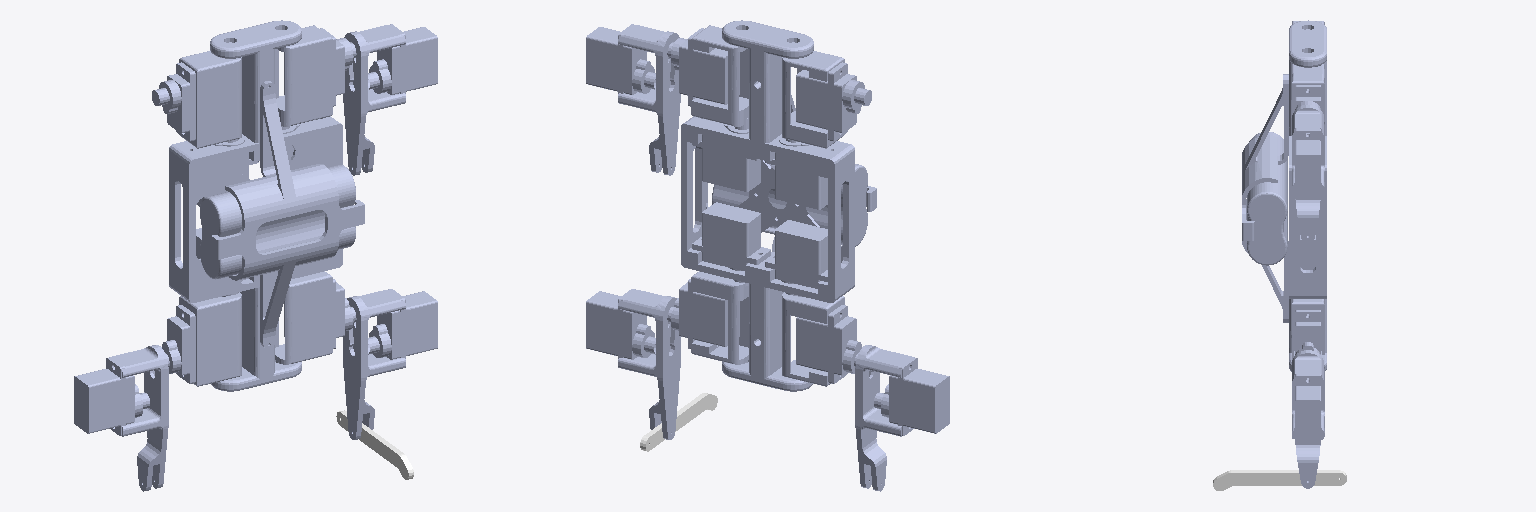
robot.urdf — MQ_SIM_ASEM:
<?xml version="1.0"?>
<robot
  name="MQ_SIM_ASEM">
  <link
    name="Chassis">
    <inertial>
      <origin
        xyz="-2.2751E-16 -0.0045599 -0.0045435"
        rpy="0 0 0" />
      <mass
        value="0.21254" />
      <inertia
        ixx="0.00050987"
        ixy="-1.19E-11"
        ixz="-1.8228E-18"
        iyy="0.00078799"
        iyz="1.2389E-06"
        izz="0.00031486" />
    </inertial>
    <visual>
      <origin
        xyz="0 0 0"
        rpy="0 0 0" />
      <geometry>
        <mesh
          filename="package://MQ_SIM_ASEM/meshes/Chassis.STL" />
      </geometry>
      <material
        name="">
        <color
          rgba="0.79216 0.81961 0.93333 1" />
      </material>
    </visual>
    <collision>
      <origin
        xyz="0 0 0"
        rpy="0 0 0" />
      <geometry>
        <mesh
          filename="package://MQ_SIM_ASEM/meshes/Chassis.STL" />
      </geometry>
    </collision>
  </link>
  <link
    name="FL_S">
    <inertial>
      <origin
        xyz="-0.012475 -0.0045599 -0.059993"
        rpy="0 0 0" />
      <mass
        value="0.21254" />
      <inertia
        ixx="0.00050987"
        ixy="-1.19E-11"
        ixz="-1.8228E-18"
        iyy="0.00078799"
        iyz="1.2389E-06"
        izz="0.00031486" />
    </inertial>
    <visual>
      <origin
        xyz="0 0 0"
        rpy="0 0 0" />
      <geometry>
        <mesh
          filename="package://MQ_SIM_ASEM/meshes/FL_S.STL" />
      </geometry>
      <material
        name="">
        <color
          rgba="0.79216 0.81961 0.93333 1" />
      </material>
    </visual>
    <collision>
      <origin
        xyz="0 0 0"
        rpy="0 0 0" />
      <geometry>
        <mesh
          filename="package://MQ_SIM_ASEM/meshes/FL_S.STL" />
      </geometry>
    </collision>
  </link>
  <joint
    name="FL_S"
    type="revolute">
    <origin
      xyz="0.012475 0 0.05545"
      rpy="0 0 0" />
    <parent
      link="Chassis" />
    <child
      link="FL_S" />
    <axis
      xyz="0 0 1" />
    <limit
      effort="10"
      velocity="5" />
    <dynamics
      damping="0"
      friction="0" />
  </joint>
  <link
    name="FL_U">
    <inertial>
      <origin
        xyz="-0.048925 -0.00455991469585068 -0.0661434522412885"
        rpy="0 0 0" />
      <mass
        value="0.212537478238056" />
      <inertia
        ixx="0.000509871545281873"
        ixy="-1.18995042286199E-11"
        ixz="-1.82281490249125E-18"
        iyy="0.00078798977975645"
        iyz="1.23887315159603E-06"
        izz="0.000314862007654797" />
    </inertial>
    <visual>
      <origin
        xyz="0 0 0"
        rpy="0 0 0" />
      <geometry>
        <mesh
          filename="package://MQ_SIM_ASEM/meshes/FL_U.STL" />
      </geometry>
      <material
        name="">
        <color
          rgba="0.792156862745098 0.819607843137255 0.933333333333333 1" />
      </material>
    </visual>
    <collision>
      <origin
        xyz="0 0 0"
        rpy="0 0 0" />
      <geometry>
        <mesh
          filename="package://MQ_SIM_ASEM/meshes/FL_U.STL" />
      </geometry>
    </collision>
  </link>
  <joint
    name="FL_U"
    type="revolute">
    <origin
      xyz="0.03645 0 0.00615"
      rpy="0 0 0" />
    <parent
      link="FL_S" />
    <child
      link="FL_U" />
    <axis
      xyz="1 0 0" />
    <limit
      effort="10"
      velocity="5" />
    <dynamics
      damping="0"
      friction="0" />
  </joint>
  <link
    name="FL_L">
    <inertial>
      <origin
        xyz="0 -0.0132084566072264 -0.000261600947614194"
        rpy="0 0 0" />
      <mass
        value="0.10736396629226" />
      <inertia
        ixx="0.01"
        ixy="0"
        ixz="0"
        iyy="0.01"
        iyz="0"
        izz="0.01" />
    </inertial>
    <visual>
      <origin
        xyz="0 0 0"
        rpy="0 0 0" />
      <geometry>
        <mesh
          filename="package://MQ_SIM_ASEM/meshes/FL_L.STL" />
      </geometry>
      <material
        name="">
        <color
          rgba="1 1 1 1" />
      </material>
    </visual>
    <collision>
      <origin
        xyz="0 0 0"
        rpy="0 0 0" />
      <geometry>
        <mesh
          filename="package://MQ_SIM_ASEM/meshes/FL_L.STL" />
      </geometry>
    </collision>
  </link>
  <joint
    name="FL_L"
    type="revolute">
    <origin
      xyz="0.00185 0 -0.055"
      rpy="0 0 0" />
    <parent
      link="FL_U" />
    <child
      link="FL_L" />
    <axis
      xyz="1 0 0" />
    <limit
      effort="1000"
      velocity="5" />
    <dynamics
      damping="0"
      friction="0" />
  </joint>
  <link
    name="FR_S">
    <inertial>
      <origin
        xyz="0.0124749999999998 -0.00455991469584891 -0.0599934522412885"
        rpy="0 0 0" />
      <mass
        value="0.212537478238056" />
      <inertia
        ixx="0.000509871545281873"
        ixy="-1.18995042286199E-11"
        ixz="-1.83636742964732E-18"
        iyy="0.00078798977975645"
        iyz="1.23887315159603E-06"
        izz="0.000314862007654797" />
    </inertial>
    <visual>
      <origin
        xyz="0 0 0"
        rpy="0 0 0" />
      <geometry>
        <mesh
          filename="package://MQ_SIM_ASEM/meshes/FR_S.STL" />
      </geometry>
      <material
        name="">
        <color
          rgba="0.792156862745098 0.819607843137255 0.933333333333333 1" />
      </material>
    </visual>
    <collision>
      <origin
        xyz="0 0 0"
        rpy="0 0 0" />
      <geometry>
        <mesh
          filename="package://MQ_SIM_ASEM/meshes/FR_S.STL" />
      </geometry>
    </collision>
  </link>
  <joint
    name="FR_S"
    type="revolute">
    <origin
      xyz="-0.012475 0 0.05545"
      rpy="0 0 0" />
    <parent
      link="Chassis" />
    <child
      link="FR_S" />
    <axis
      xyz="0 0 1" />
    <limit
      effort="10"
      velocity="5" />
    <dynamics
      damping="0"
      friction="0" />
  </joint>
  <link
    name="FR_U">
    <inertial>
      <origin
        xyz="0.0489249999999996 -0.00455991469584817 -0.0661434522412884"
        rpy="0 0 0" />
      <mass
        value="0.212537478238056" />
      <inertia
        ixx="0.000509871545281873"
        ixy="-1.18995042286199E-11"
        ixz="-1.82281490249125E-18"
        iyy="0.00078798977975645"
        iyz="1.23887315159603E-06"
        izz="0.000314862007654797" />
    </inertial>
    <visual>
      <origin
        xyz="0 0 0"
        rpy="0 0 0" />
      <geometry>
        <mesh
          filename="package://MQ_SIM_ASEM/meshes/FR_U.STL" />
      </geometry>
      <material
        name="">
        <color
          rgba="0.792156862745098 0.819607843137255 0.933333333333333 1" />
      </material>
    </visual>
    <collision>
      <origin
        xyz="0 0 0"
        rpy="0 0 0" />
      <geometry>
        <mesh
          filename="package://MQ_SIM_ASEM/meshes/FR_U.STL" />
      </geometry>
    </collision>
  </link>
  <joint
    name="FR_U"
    type="revolute">
    <origin
      xyz="-0.03645 0 0.00615"
      rpy="0 0 0" />
    <parent
      link="FR_S" />
    <child
      link="FR_U" />
    <axis
      xyz="1 0 0" />
    <limit
      effort="10"
      velocity="5" />
    <dynamics
      damping="0"
      friction="0" />
  </joint>
  <link
    name="FR_L">
    <inertial>
      <origin
        xyz="0 -0.0132084566072264 -0.000261600947614193"
        rpy="0 0 0" />
      <mass
        value="0.10736396629226" />
      <inertia
        ixx="0.01"
        ixy="0"
        ixz="0"
        iyy="0.01"
        iyz="0"
        izz="0.01" />
    </inertial>
    <visual>
      <origin
        xyz="0 0 0"
        rpy="0 0 0" />
      <geometry>
        <mesh
          filename="package://MQ_SIM_ASEM/meshes/FR_L.STL" />
      </geometry>
      <material
        name="">
        <color
          rgba="1 1 1 1" />
      </material>
    </visual>
    <collision>
      <origin
        xyz="0 0 0"
        rpy="0 0 0" />
      <geometry>
        <mesh
          filename="package://MQ_SIM_ASEM/meshes/FR_L.STL" />
      </geometry>
    </collision>
  </link>
  <joint
    name="FR_L"
    type="revolute">
    <origin
      xyz="-0.00185 0 -0.055"
      rpy="0 0 0" />
    <parent
      link="FR_U" />
    <child
      link="FR_L" />
    <axis
      xyz="1 0 0" />
    <limit
      effort="1000"
      velocity="5" />
    <dynamics
      damping="0"
      friction="0" />
  </joint>
  <link
    name="BL_S">
    <inertial>
      <origin
        xyz="-0.0124749999999998 -0.00455991469584891 0.0509065477587115"
        rpy="0 0 0" />
      <mass
        value="0.212537478238056" />
      <inertia
        ixx="0.000509871545281873"
        ixy="-1.18995042294669E-11"
        ixz="-1.82959116606929E-18"
        iyy="0.00078798977975645"
        iyz="1.23887315159603E-06"
        izz="0.000314862007654797" />
    </inertial>
    <visual>
      <origin
        xyz="0 0 0"
        rpy="0 0 0" />
      <geometry>
        <mesh
          filename="package://MQ_SIM_ASEM/meshes/BL_S.STL" />
      </geometry>
      <material
        name="">
        <color
          rgba="0.792156862745098 0.819607843137255 0.933333333333333 1" />
      </material>
    </visual>
    <collision>
      <origin
        xyz="0 0 0"
        rpy="0 0 0" />
      <geometry>
        <mesh
          filename="package://MQ_SIM_ASEM/meshes/BL_S.STL" />
      </geometry>
    </collision>
  </link>
  <joint
    name="BL_S"
    type="revolute">
    <origin
      xyz="0.012475 0 -0.05545"
      rpy="0 0 0" />
    <parent
      link="Chassis" />
    <child
      link="BL_S" />
    <axis
      xyz="0 0 1" />
    <limit
      effort="10"
      velocity="5" />
    <dynamics
      damping="0"
      friction="0" />
  </joint>
  <link
    name="BL_U">
    <inertial>
      <origin
        xyz="-0.0489249999999992 -0.00455991469584733 0.0570565477587112"
        rpy="0 0 0" />
      <mass
        value="0.212537478238056" />
      <inertia
        ixx="0.000509871545281873"
        ixy="-1.18995036212972E-11"
        ixz="-1.82281490249125E-18"
        iyy="0.00078798977975645"
        iyz="1.2388731515953E-06"
        izz="0.000314862007654797" />
    </inertial>
    <visual>
      <origin
        xyz="0 0 0"
        rpy="0 0 0" />
      <geometry>
        <mesh
          filename="package://MQ_SIM_ASEM/meshes/BL_U.STL" />
      </geometry>
      <material
        name="">
        <color
          rgba="0.792156862745098 0.819607843137255 0.933333333333333 1" />
      </material>
    </visual>
    <collision>
      <origin
        xyz="0 0 0"
        rpy="0 0 0" />
      <geometry>
        <mesh
          filename="package://MQ_SIM_ASEM/meshes/BL_U.STL" />
      </geometry>
    </collision>
  </link>
  <joint
    name="BL_U"
    type="revolute">
    <origin
      xyz="0.03645 0 -0.00615"
      rpy="0 0 0" />
    <parent
      link="BL_S" />
    <child
      link="BL_U" />
    <axis
      xyz="1 0 0" />
    <limit
      effort="10"
      velocity="5" />
    <dynamics
      damping="0"
      friction="0" />
  </joint>
  <link
    name="BL_L">
    <inertial>
      <origin
        xyz="0 -0.0132084566072264 -0.00026160094761421"
        rpy="0 0 0" />
      <mass
        value="0.10736396629226" />
      <inertia
        ixx="0.01"
        ixy="0"
        ixz="0"
        iyy="0.01"
        iyz="0"
        izz="0.01" />
    </inertial>
    <visual>
      <origin
        xyz="0 0 0"
        rpy="0 0 0" />
      <geometry>
        <mesh
          filename="package://MQ_SIM_ASEM/meshes/BL_L.STL" />
      </geometry>
      <material
        name="">
        <color
          rgba="1 1 1 1" />
      </material>
    </visual>
    <collision>
      <origin
        xyz="0 0 0"
        rpy="0 0 0" />
      <geometry>
        <mesh
          filename="package://MQ_SIM_ASEM/meshes/BL_L.STL" />
      </geometry>
    </collision>
  </link>
  <joint
    name="BL_L"
    type="revolute">
    <origin
      xyz="0.00185 0 -0.055"
      rpy="0 0 0" />
    <parent
      link="BL_U" />
    <child
      link="BL_L" />
    <axis
      xyz="1 0 0" />
    <limit
      effort="1000"
      velocity="5" />
    <dynamics
      damping="0"
      friction="0" />
  </joint>
  <link
    name="BR_S">
    <inertial>
      <origin
        xyz="0.0124750000000002 -0.00455991469584895 0.0509065477587112"
        rpy="0 0 0" />
      <mass
        value="0.212537478238056" />
      <inertia
        ixx="0.000509871545281873"
        ixy="-1.18995036212972E-11"
        ixz="-1.82281490249125E-18"
        iyy="0.00078798977975645"
        iyz="1.2388731515953E-06"
        izz="0.000314862007654797" />
    </inertial>
    <visual>
      <origin
        xyz="0 0 0"
        rpy="0 0 0" />
      <geometry>
        <mesh
          filename="package://MQ_SIM_ASEM/meshes/BR_S.STL" />
      </geometry>
      <material
        name="">
        <color
          rgba="0.792156862745098 0.819607843137255 0.933333333333333 1" />
      </material>
    </visual>
    <collision>
      <origin
        xyz="0 0 0"
        rpy="0 0 0" />
      <geometry>
        <mesh
          filename="package://MQ_SIM_ASEM/meshes/BR_S.STL" />
      </geometry>
    </collision>
  </link>
  <joint
    name="BR_S"
    type="revolute">
    <origin
      xyz="-0.012475 0 -0.05545"
      rpy="0 0 0" />
    <parent
      link="Chassis" />
    <child
      link="BR_S" />
    <axis
      xyz="0 0 1" />
    <limit
      effort="10"
      velocity="5" />
    <dynamics
      damping="0"
      friction="0" />
  </joint>
  <link
    name="BR_U">
    <inertial>
      <origin
        xyz="0.0489250000000004 -0.00455991469584955 0.0570565477587115"
        rpy="0 0 0" />
      <mass
        value="0.212537478238056" />
      <inertia
        ixx="0.000509871545281873"
        ixy="-1.18995042226906E-11"
        ixz="-1.81603863891322E-18"
        iyy="0.00078798977975645"
        iyz="1.23887315159459E-06"
        izz="0.000314862007654797" />
    </inertial>
    <visual>
      <origin
        xyz="0 0 0"
        rpy="0 0 0" />
      <geometry>
        <mesh
          filename="package://MQ_SIM_ASEM/meshes/BR_U.STL" />
      </geometry>
      <material
        name="">
        <color
          rgba="0.792156862745098 0.819607843137255 0.933333333333333 1" />
      </material>
    </visual>
    <collision>
      <origin
        xyz="0 0 0"
        rpy="0 0 0" />
      <geometry>
        <mesh
          filename="package://MQ_SIM_ASEM/meshes/BR_U.STL" />
      </geometry>
    </collision>
  </link>
  <joint
    name="BR_U"
    type="revolute">
    <origin
      xyz="-0.03645 0 -0.00615"
      rpy="0 0 0" />
    <parent
      link="BR_S" />
    <child
      link="BR_U" />
    <axis
      xyz="1 0 0" />
    <limit
      effort="10"
      velocity="5" />
    <dynamics
      damping="0"
      friction="0" />
  </joint>
  <link
    name="BR_L">
    <inertial>
      <origin
        xyz="0 -0.0132084566072264 -0.00026160094761421"
        rpy="0 0 0" />
      <mass
        value="0.10736396629226" />
      <inertia
        ixx="0.01"
        ixy="0"
        ixz="0"
        iyy="0.01"
        iyz="0"
        izz="0.01" />
    </inertial>
    <visual>
      <origin
        xyz="0 0 0"
        rpy="0 0 0" />
      <geometry>
        <mesh
          filename="package://MQ_SIM_ASEM/meshes/BR_L.STL" />
      </geometry>
      <material
        name="">
        <color
          rgba="1 1 1 1" />
      </material>
    </visual>
    <collision>
      <origin
        xyz="0 0 0"
        rpy="0 0 0" />
      <geometry>
        <mesh
          filename="package://MQ_SIM_ASEM/meshes/BR_L.STL" />
      </geometry>
    </collision>
  </link>
  <joint
    name="BR_L"
    type="revolute">
    <origin
      xyz="-0.00185 0 -0.055"
      rpy="0 0 0" />
    <parent
      link="BR_U" />
    <child
      link="BR_L" />
    <axis
      xyz="1 0 0" />
    <limit
      effort="1000"
      velocity="5" />
    <dynamics
      damping="0"
      friction="0" />
  </joint>
</robot>

--- Render facts (derived) ---
Views: 3 orthographic renders of the robot side by side, from view 1: azimuth 30°, elevation 25°; view 2: azimuth 150°, elevation 25°; view 3: azimuth 270°, elevation 25°.
Robot: MQ_SIM_ASEM — 13 links, 12 joints (12 revolute); root link Chassis; default pose: all joints at 0.
Links seen in each view (by area): view 1: Chassis, BR_U, FL_U, BL_U, FR_S, BR_S, FL_S, BL_S, BL_L; view 2: Chassis, BR_U, FL_U, BL_U, FR_S, FL_S, BR_S, BL_S, BL_L; view 3: Chassis, BL_U, FL_U, BL_L, BL_S, FL_S.
Boxes of the visible links, x1=… form: Chassis: x1=169, y1=20, x2=364, y2=391; BR_U: x1=74, y1=345, x2=168, y2=491; FL_U: x1=343, y1=24, x2=437, y2=175; BL_U: x1=343, y1=289, x2=437, y2=439; FR_S: x1=152, y1=42, x2=241, y2=148; BR_S: x1=162, y1=292, x2=241, y2=386; FL_S: x1=275, y1=25, x2=356, y2=126; BL_S: x1=275, y1=271, x2=356, y2=364; BL_L: x1=336, y1=410, x2=413, y2=479; Chassis: x1=681, y1=20, x2=876, y2=391; BR_U: x1=855, y1=345, x2=949, y2=491; FL_U: x1=586, y1=24, x2=680, y2=175; BL_U: x1=586, y1=289, x2=680, y2=439; FR_S: x1=782, y1=42, x2=871, y2=148; FL_S: x1=667, y1=25, x2=748, y2=126; BR_S: x1=782, y1=292, x2=861, y2=386; BL_S: x1=667, y1=271, x2=748, y2=364; BL_L: x1=640, y1=393, x2=717, y2=451; Chassis: x1=1242, y1=20, x2=1326, y2=371; BL_U: x1=1292, y1=350, x2=1324, y2=488; FL_U: x1=1292, y1=105, x2=1324, y2=242; BL_L: x1=1213, y1=470, x2=1346, y2=490; BL_S: x1=1292, y1=299, x2=1324, y2=364; FL_S: x1=1292, y1=64, x2=1324, y2=118.
Bounding box of the posed robot: 0.1702 × 0.0609 × 0.2027 m (x, y, z).
9 mesh visuals loaded from 13 distinct referenced files (9 binary STL); not drawn: 4 (reference not matched to a file when rendering).